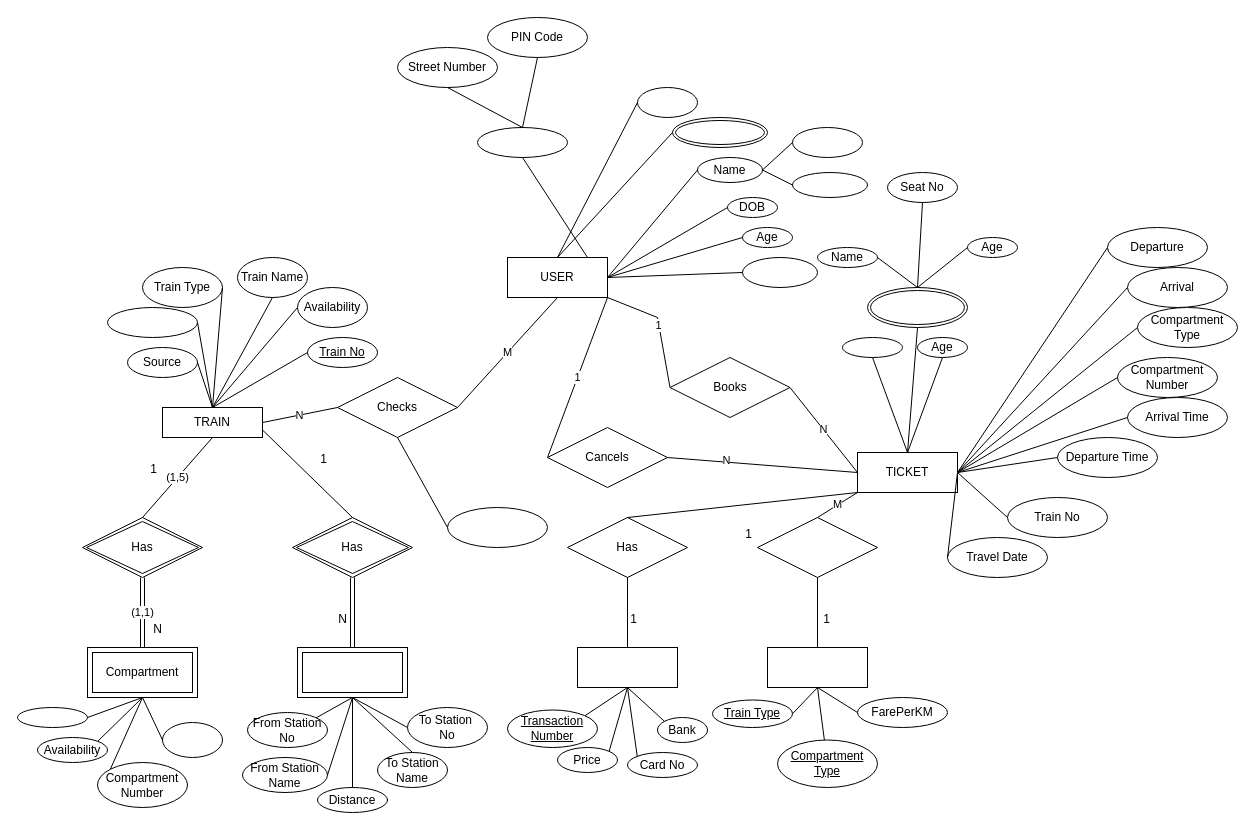
Some shapes in this 1255 by 830 pixel diagram are drawn without their labels. The shapes that lost their labels are listed below. From the top down, each one's centre as x and y in pixels, then its label:
At point (667, 102): "User Id".
At point (522, 142): "Address".
At point (720, 132): "Phone Number".
At point (827, 142): "LName".
At point (830, 185): "FName".
At point (780, 272): "User Type".
At point (152, 322): "Destination".
At point (917, 307): "Passenger Info".
At point (872, 347): "PNR".
At point (497, 527): "Date Time Stamp".
At point (817, 547): "Uses".
At point (352, 672): "Route Info".
At point (627, 667): "PAYMENT INFO".
At point (817, 667): "FARE TABLE".
At point (52, 717): "Type".
At point (192, 740): "Capacity".
